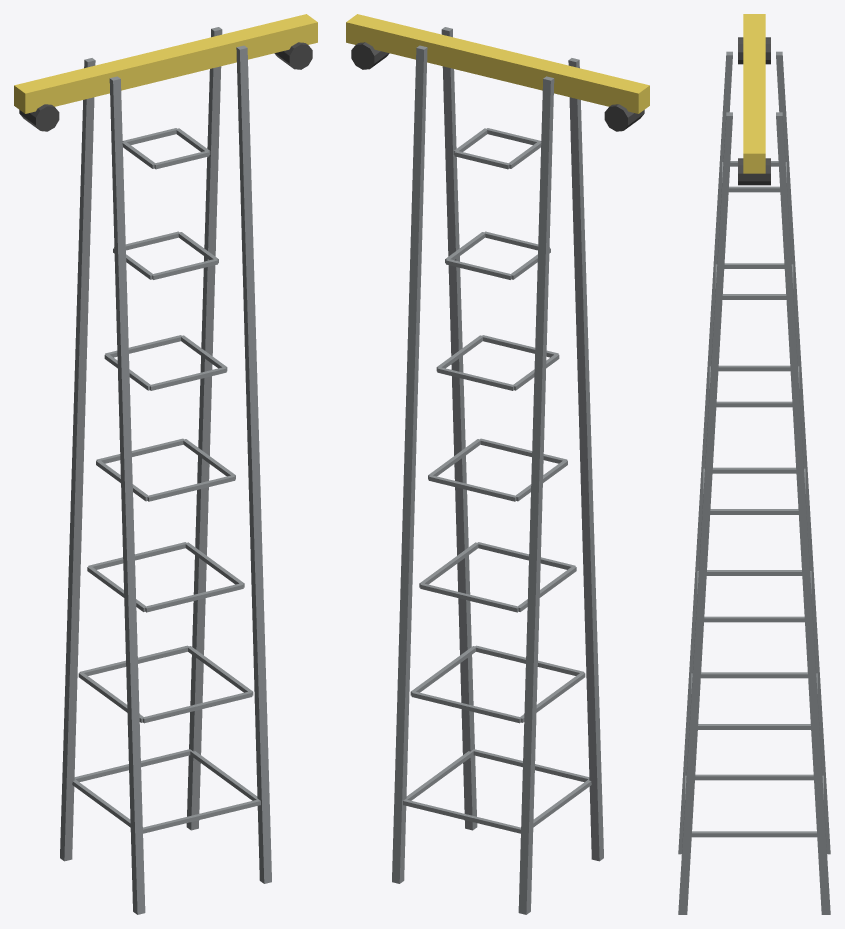
Rendered from fv_pylon.glb.
3 renders of one model, left to right at view 1: azimuth 30°, elevation 25°; view 2: azimuth 150°, elevation 25°; view 3: azimuth 270°, elevation 25°, orthographic. The views are drawn at different scales.
Parts seen in each view (by area): view 1: fv_pylon; view 2: fv_pylon; view 3: fv_pylon.
Boxes of the visible parts, bbox=[...] form: fv_pylon: bbox=[14, 14, 317, 914]; fv_pylon: bbox=[346, 14, 649, 914]; fv_pylon: bbox=[678, 14, 830, 914].
Size of the model in its own units: 6 by 16 by 2.76.
